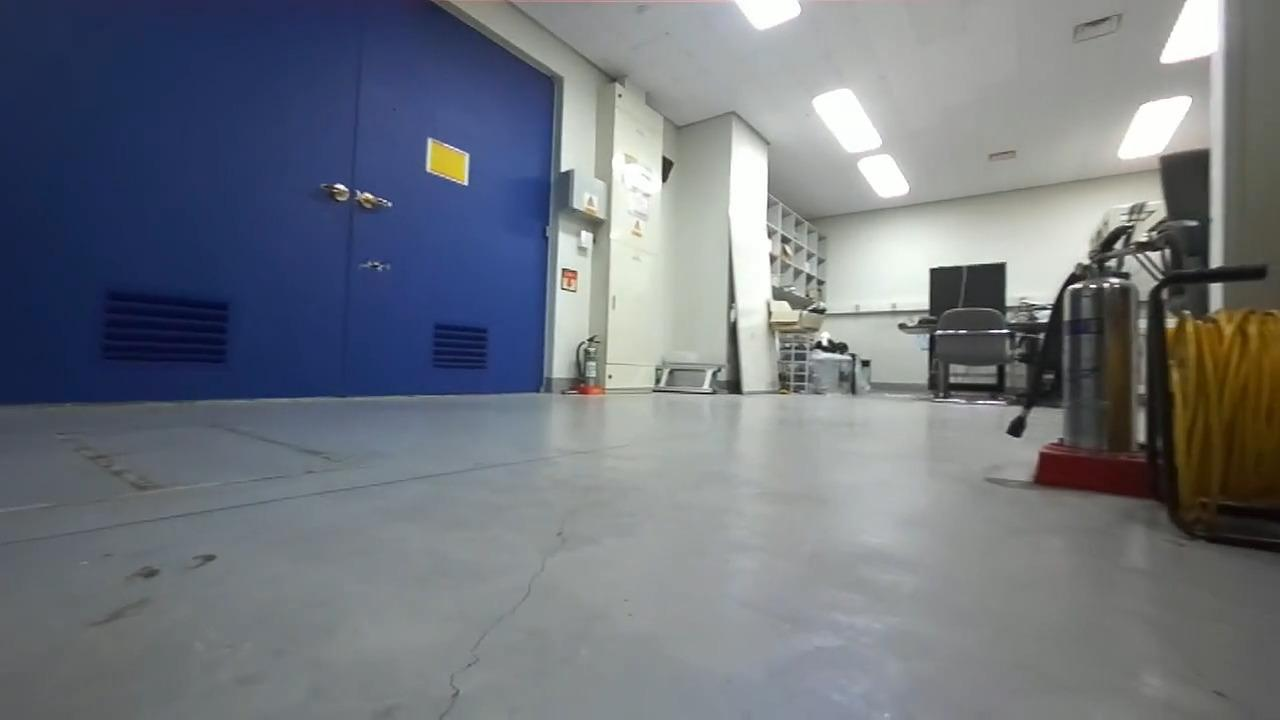crazyflie: (349, 254, 394, 277)
